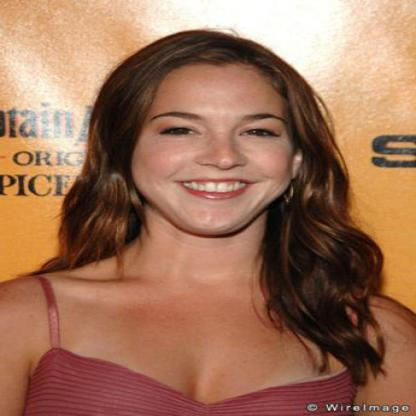long-hair: (49, 234, 390, 280)
